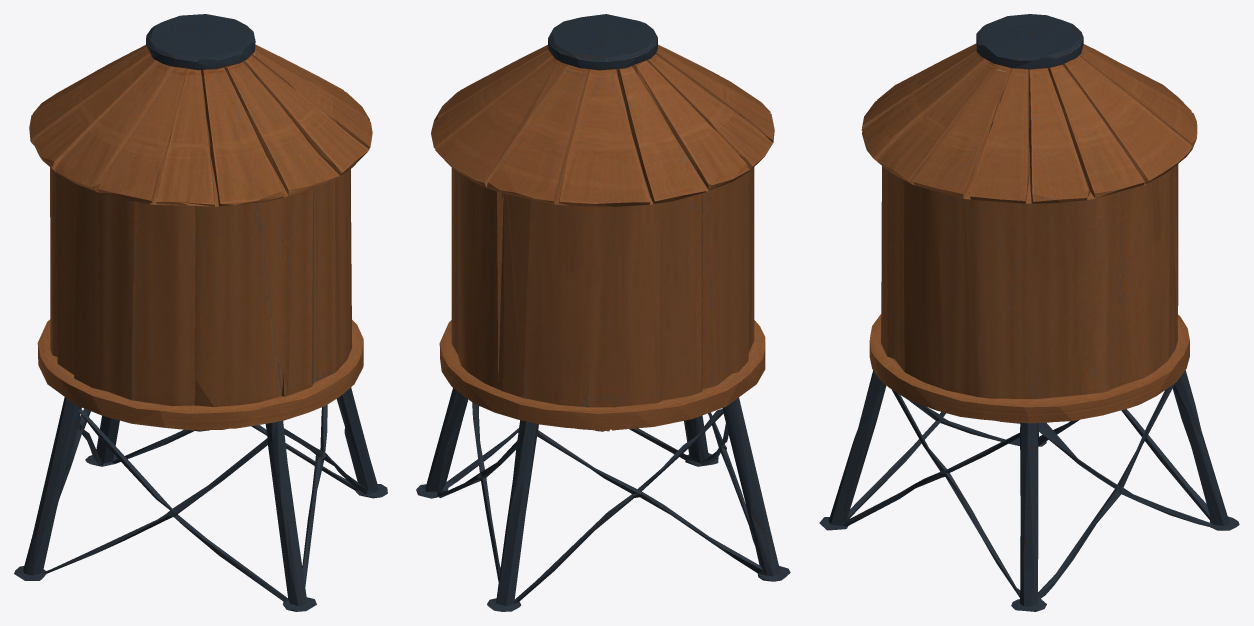
File: water_tank.glb
3 renders of one model, left to right at view 1: azimuth 30°, elevation 25°; view 2: azimuth 150°, elevation 25°; view 3: azimuth 270°, elevation 25°, orthographic.
Bounding box in the file's own units: 1.48 × 1.9 × 1.48.
Materials: 1 (1 with a texture image).
